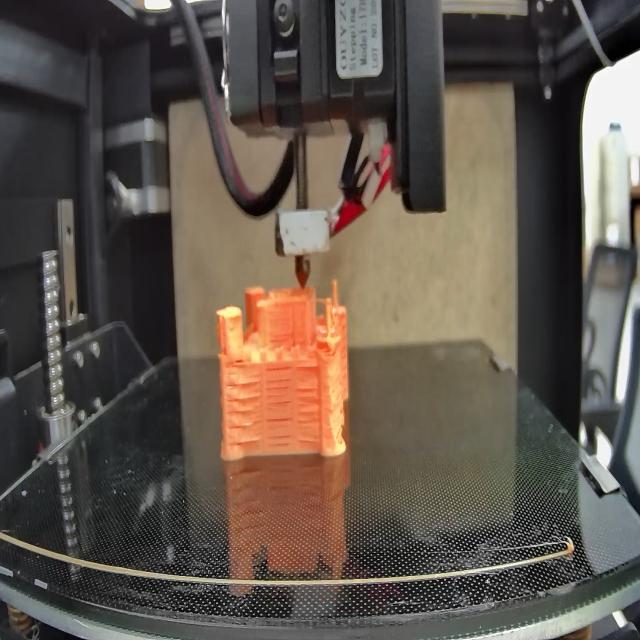cracks: (266, 362, 294, 445), (229, 378, 262, 446), (297, 384, 321, 444), (235, 355, 253, 369), (296, 361, 318, 372), (268, 331, 290, 340)
